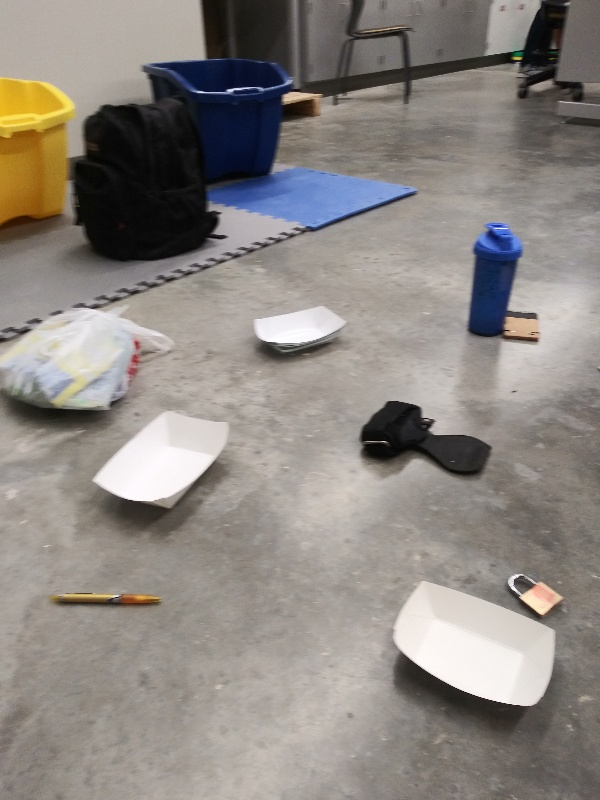plate: (384, 575, 560, 714), (88, 406, 238, 519), (250, 301, 350, 361)
